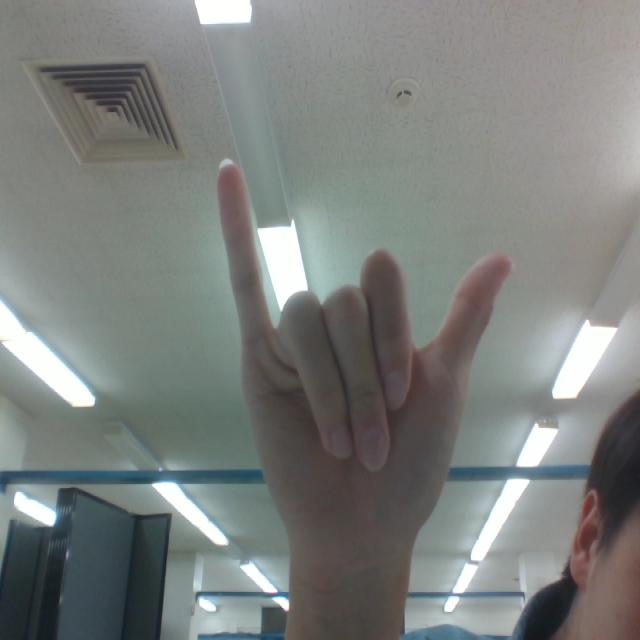Y: (186, 136, 557, 585)
